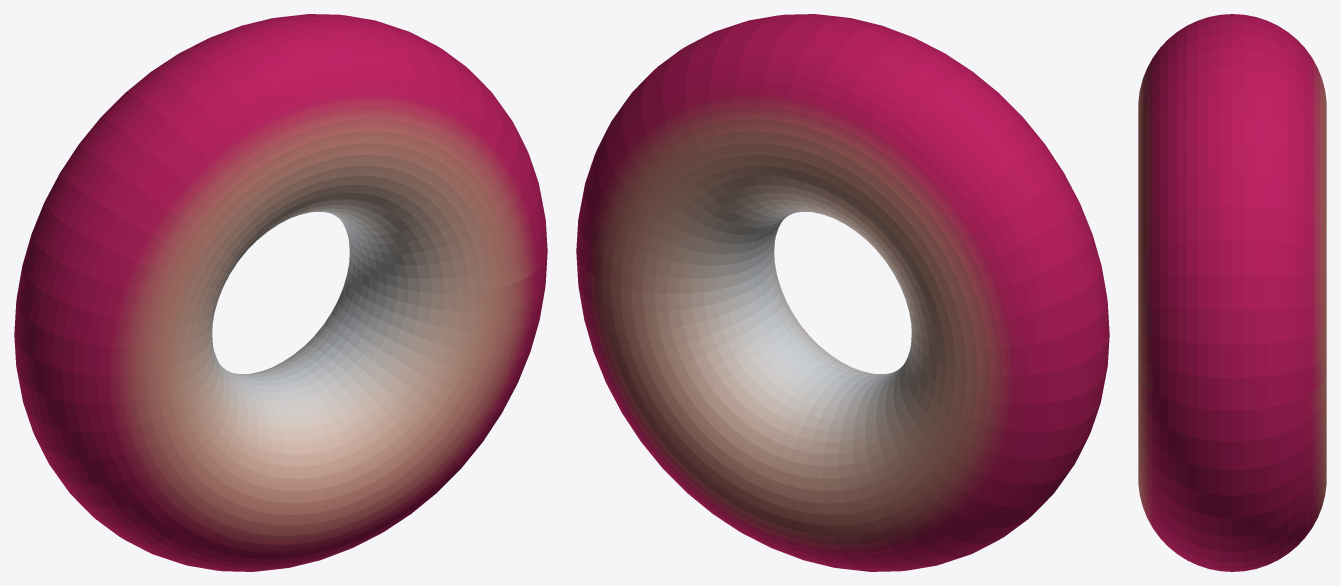
3 views of the same model, side by side, from view 1: azimuth 30°, elevation 25°; view 2: azimuth 150°, elevation 25°; view 3: azimuth 270°, elevation 25° (orthographic). The views are drawn at different scales.
Parts seen in each view (by area): view 1: world; view 2: world; view 3: world.
Part boxes in pixels (x1,y1,x2,y2): world: (14,14,547,571); world: (576,14,1109,571); world: (1138,14,1326,571).
Bounding box in the file's own units: 27.2 × 27.15 × 9.18.
